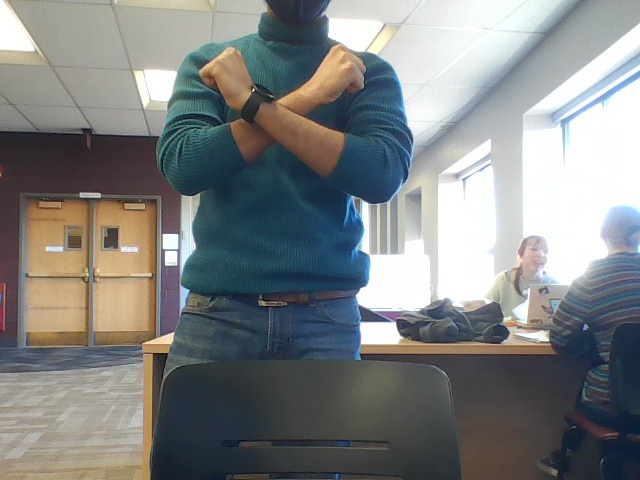cancel: (199, 38, 371, 189)
